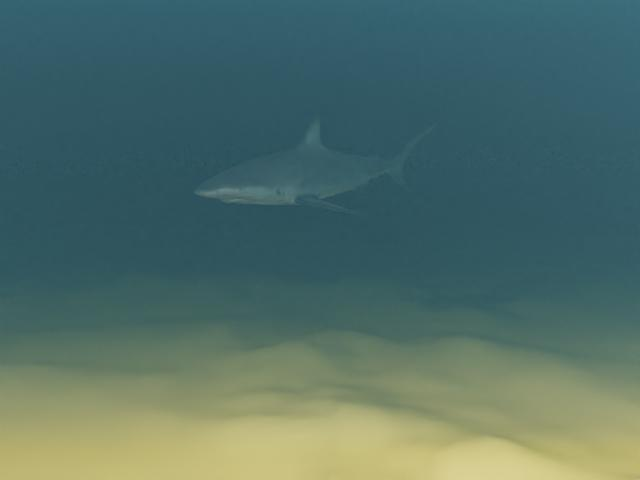Carribean Shark.001: (194, 114, 445, 214)
